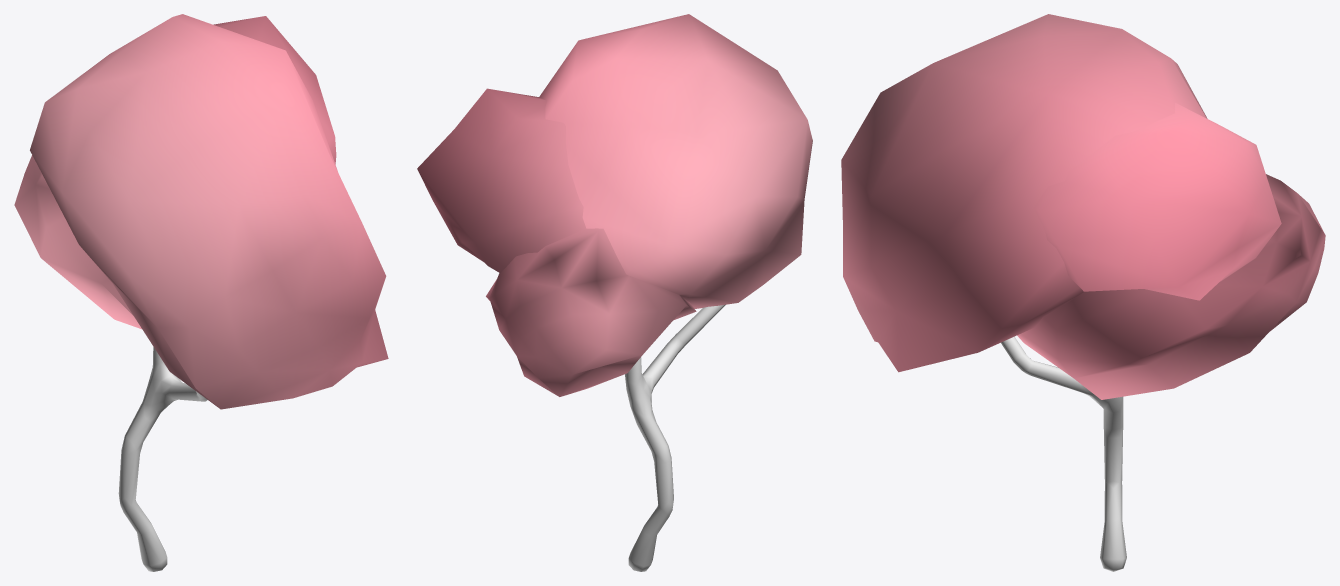
Rendered from Cotton_1.fbx.
3 views of the same model, side by side, from view 1: azimuth 30°, elevation 25°; view 2: azimuth 150°, elevation 25°; view 3: azimuth 270°, elevation 25° (orthographic). The views are drawn at different scales.
Parts seen in each view (by area): view 1: Cotton_2, Cotton_2_Branch; view 2: Cotton_2, Cotton_2_Branch; view 3: Cotton_2, Cotton_2_Branch.
Part boxes in pixels (bbox=[...]): Cotton_2: bbox=[14, 14, 388, 409]; Cotton_2_Branch: bbox=[118, 347, 207, 571]; Cotton_2: bbox=[417, 14, 812, 396]; Cotton_2_Branch: bbox=[625, 304, 725, 571]; Cotton_2: bbox=[841, 14, 1325, 399]; Cotton_2_Branch: bbox=[1001, 336, 1126, 571].
Size of the model in its own units: 196 by 342 by 273.
2 materials, 1 textured.
